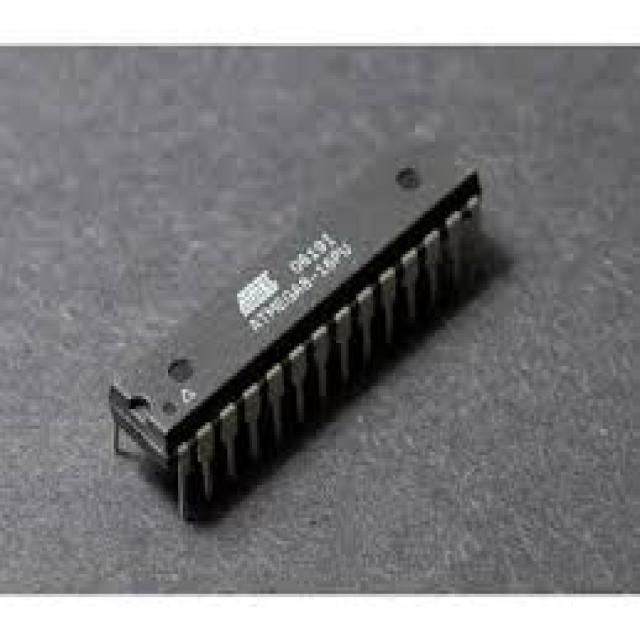IC: (101, 138, 497, 526)
